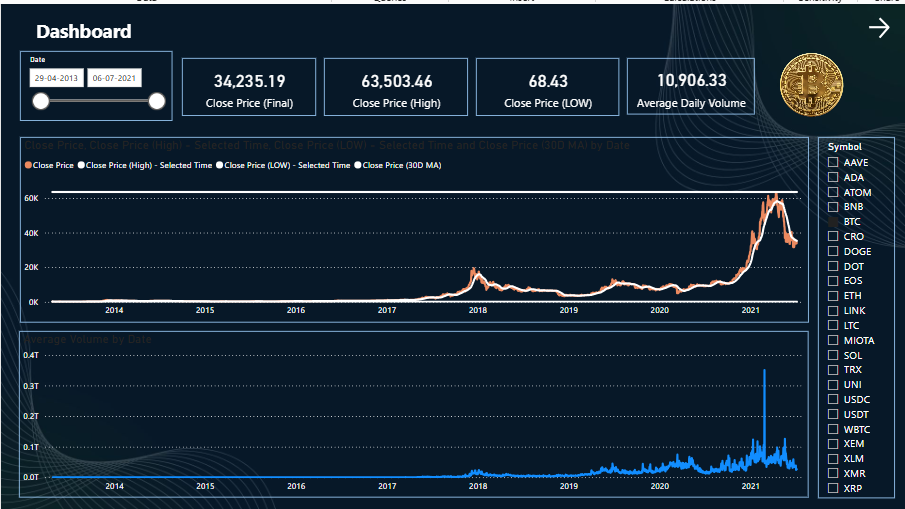

The page's visual inventory and layout, read from the dashboard file:
{"tool":"powerbi","page":{"name":"Cryptocurrency Dashboard","canvas":[1280,720],"ordinal":1},"visuals":[{"type":"lineChart","fields":{"Category":["Dates.Date"],"Y":["Key Measures.Close Price","Key Measures.Close Price (High) - Selected Time","Key Measures.Close Price (LOW) - Selected Time","Key Measures.Close Price (30D MA)"]},"box":[26.3,188.3,1118,262.7],"z":0},{"type":"slicer","fields":{"Values":["Dates.Date"]},"box":[26.3,67.1,216,99.2],"z":1000},{"type":"card","fields":{"Values":["Key Measures.Close Price (Final)"]},"box":[256.9,75.9,189.7,81.7],"z":2000},{"type":"card","fields":{"Values":["Key Measures.Close Price (High)"]},"box":[458.3,75.9,204.3,81.7],"z":3000},{"type":"card","fields":{"Values":["Key Measures.Close Price (LOW)"]},"box":[672.8,75.9,202.9,81.7],"z":4000},{"type":"lineChart","fields":{"Category":["Dates.Date"],"Y":["Key Measures.Average Volume"]},"box":[24.8,464.1,1119.5,236.4],"z":5000},{"type":"card","fields":{"Values":["Key Measures.Average Daily Volume"]},"box":[887.4,75.9,181,80.3],"z":6000},{"type":"slicer","fields":{"Values":["Crypto symbols.Symbol"]},"box":[1157.4,188.3,109.5,512.3],"z":7000},{"type":"textbox","box":[24.8,14.6,183.9,73],"z":8000},{"type":"actionButton","box":[640,14.6,66.9,53.5],"z":9000},{"type":"image","box":[1071.3,48.2,153.2,135.7],"z":10000},{"type":"actionButton","box":[1224.5,14.6,42.3,39.4],"z":11000}]}

Visuals, with their boxes in screenshot pixels (x1, y1, x2, y2), scaled from the page's 1280x720 canvas onto the 905x509 screenshot:
lineChart - Dates.Date x Key Measures.Close Price: 19 133 809 319
slicer - Dates.Date: 19 47 171 118
card - Key Measures.Close Price (Final): 182 54 316 111
card - Key Measures.Close Price (High): 324 54 468 111
card - Key Measures.Close Price (LOW): 476 54 619 111
lineChart - Dates.Date x Key Measures.Average Volume: 18 328 809 495
card - Key Measures.Average Daily Volume: 627 54 755 110
slicer - Crypto symbols.Symbol: 818 133 896 495
textbox: 18 10 148 62
actionButton: 452 10 500 48
image: 757 34 866 130
actionButton: 866 10 896 38
